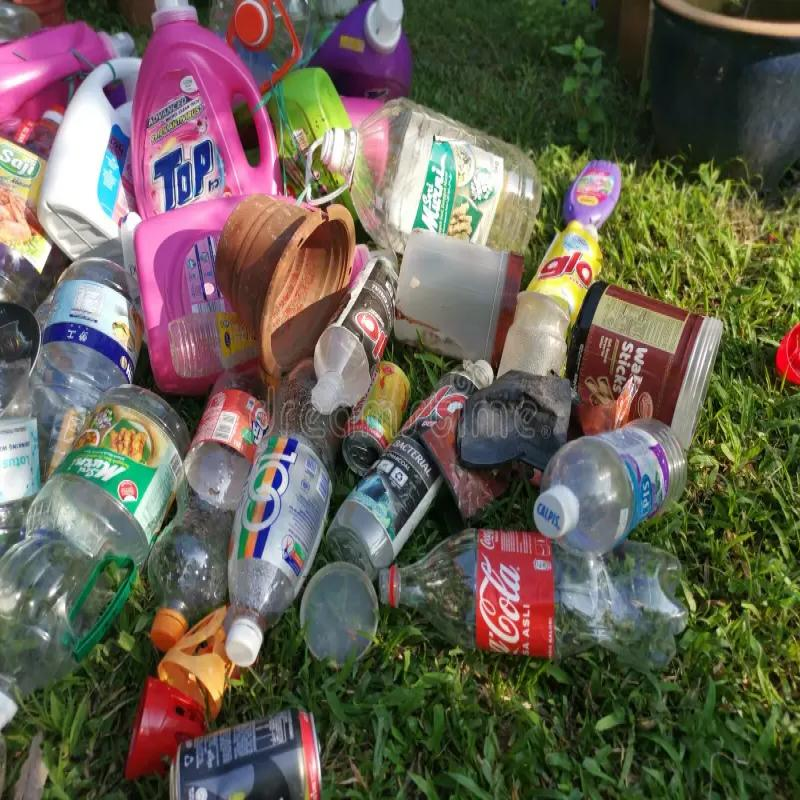botella: (381, 516, 699, 684), (223, 358, 336, 674), (151, 359, 268, 660), (12, 234, 139, 462), (536, 416, 694, 544)
